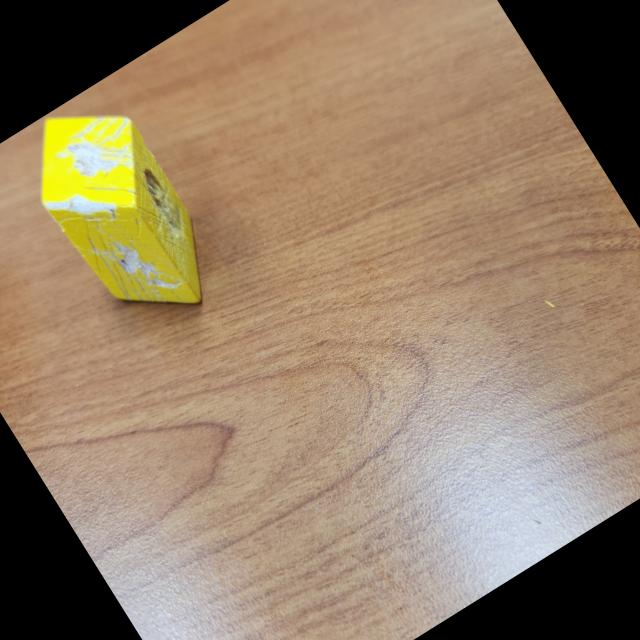broken: (4, 80, 232, 346)
